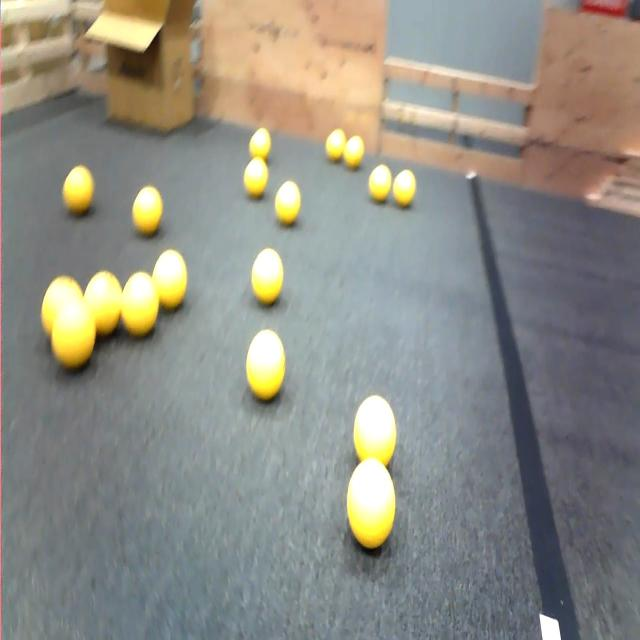fuel: (347, 459, 395, 549), (51, 298, 96, 368), (354, 395, 396, 465), (246, 330, 285, 401), (41, 276, 82, 336), (84, 272, 122, 335), (122, 272, 158, 337), (152, 250, 187, 310), (251, 248, 283, 304), (63, 166, 94, 215), (132, 186, 163, 235), (275, 181, 300, 225), (244, 158, 268, 198), (393, 169, 416, 207), (369, 165, 391, 202), (343, 135, 365, 170), (249, 128, 271, 160), (326, 129, 345, 161)
